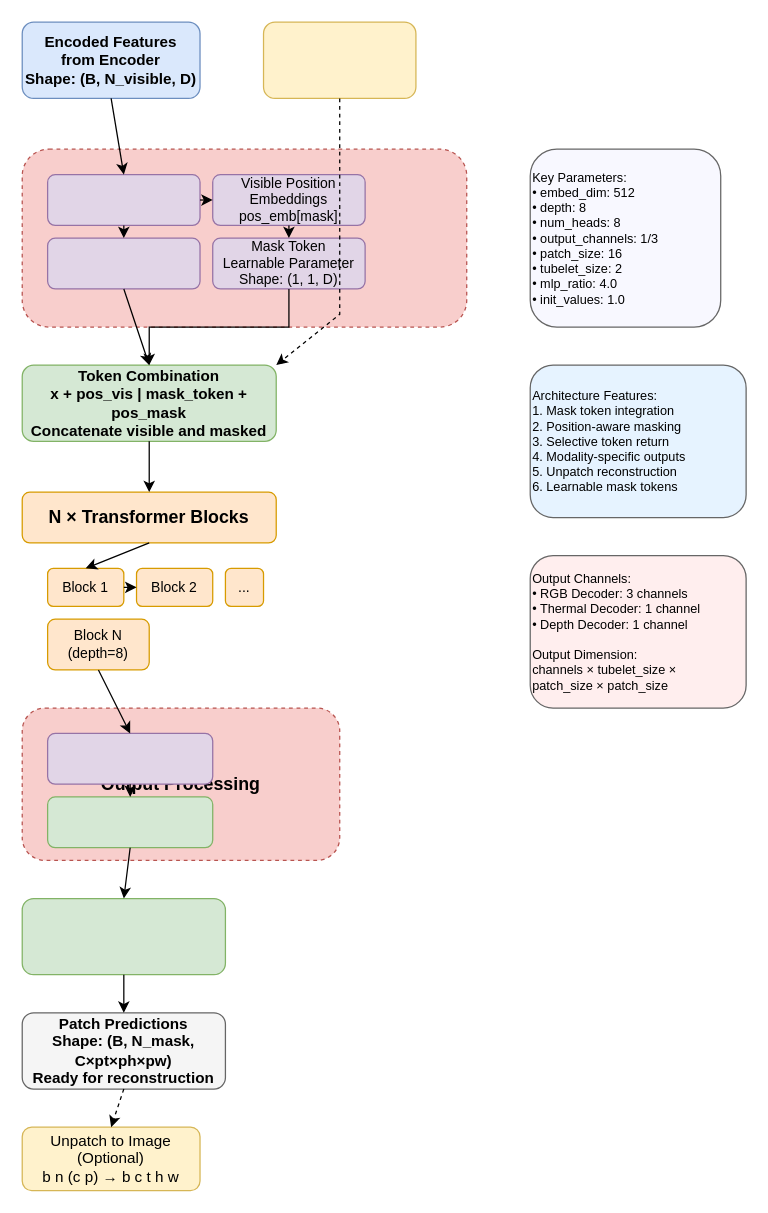
This 768x1213 diagram has some shape labels left out. The shapes that lost their labels are listed below. From the top down, each one's box as (x1, y1, x2, y2) in pixels, then its label:
(262, 21, 416, 98): Mask Input Shape: (B, N) Boolean mask
(46, 173, 200, 225): Expand Positional Embeddings expand(b, -1, -1)
(21, 148, 467, 327): Positional Embedding Processing
(46, 237, 200, 289): Masked Position Embeddings pos_emb[~mask]
(46, 732, 213, 784): Return Masked Tokens x[:, -mask_num:] Only reconstruction targets
(46, 796, 213, 848): Layer Normalization Final normalization
(21, 897, 225, 975): Linear Head embed_dim → output_dim output_dim = C×pt×ph×pw
